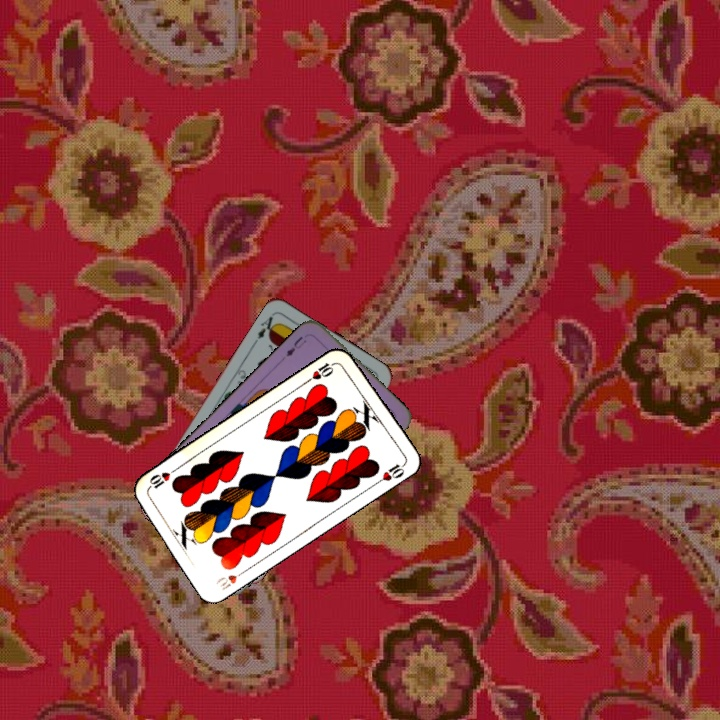EA: (250, 309, 280, 345)
EU: (281, 332, 309, 359)
H10: (212, 565, 250, 593), (303, 358, 339, 385)
